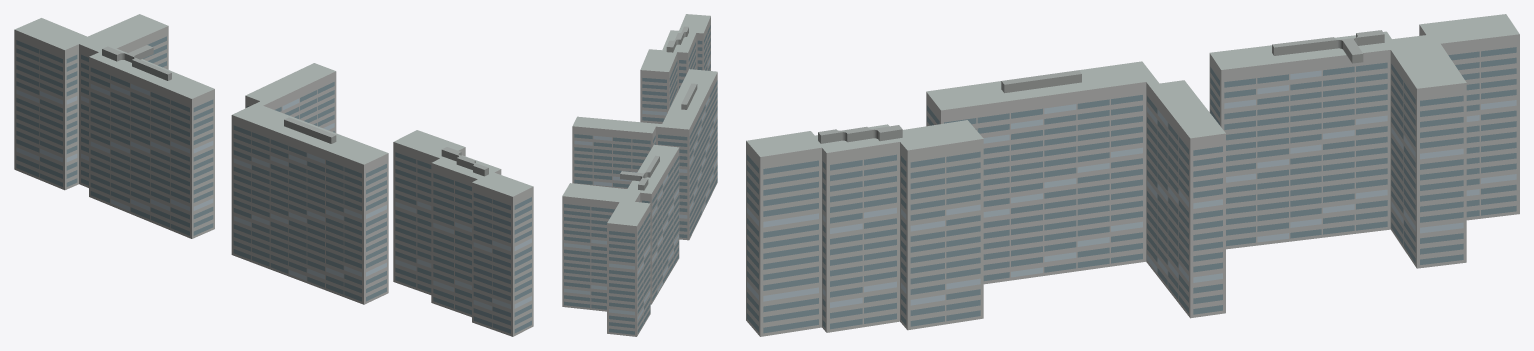
File: apt-a13204506.glb
The picture shows the model from 3 angles, left to right: view 1: azimuth 30°, elevation 25°; view 2: azimuth 150°, elevation 25°; view 3: azimuth 270°, elevation 25°; orthographic projection. The views are drawn at different scales.
Parts seen in each view (by area): view 1: apt-a13204506; view 2: apt-a13204506; view 3: apt-a13204506.
Part boxes in pixels (x1,y1,x2,y2): apt-a13204506: (14, 14, 533, 336); apt-a13204506: (562, 14, 717, 336); apt-a13204506: (746, 14, 1519, 336).
Bounding box in the file's own units: 86.41 × 53 × 197.
